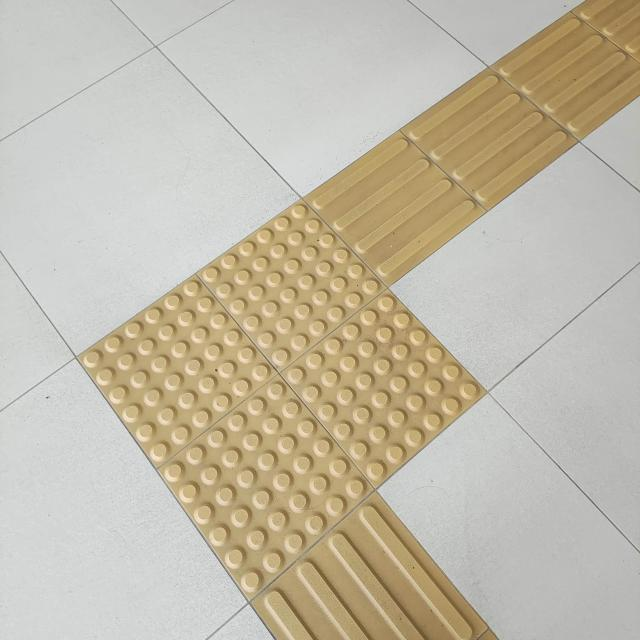kanan: (22, 145, 571, 616)
